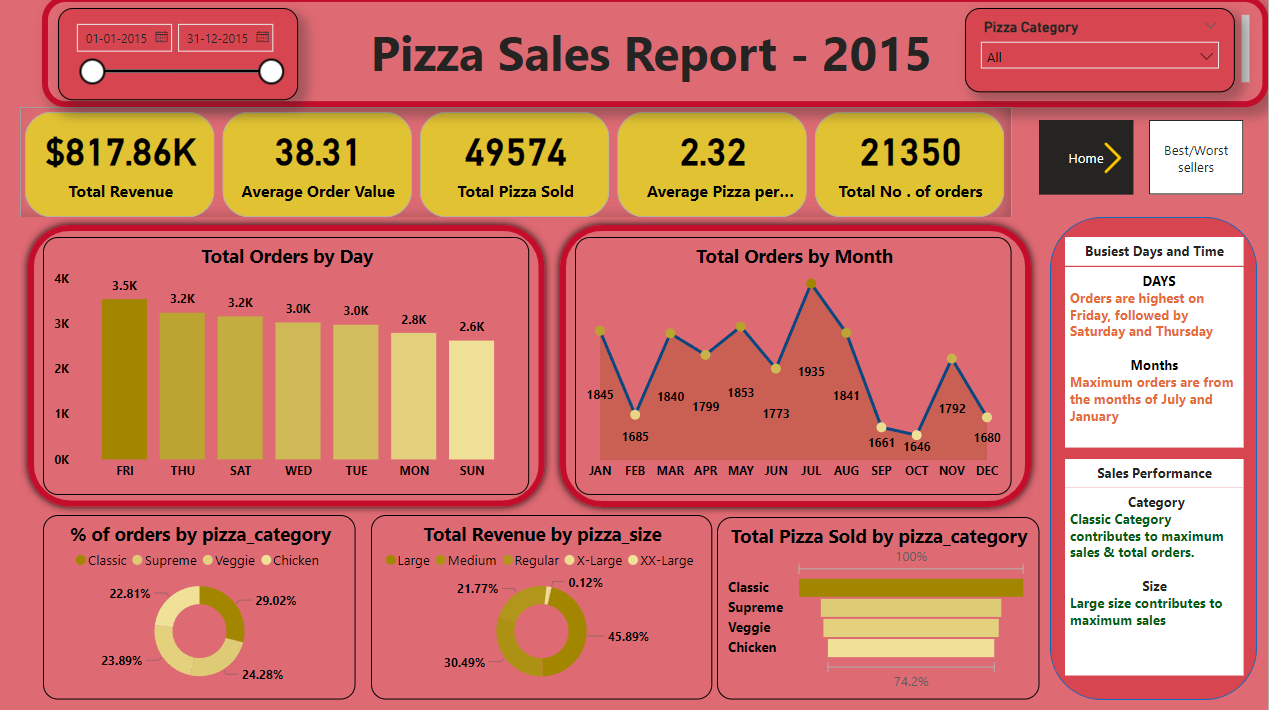

What the dashboard file says about the page in this screenshot:
{"tool":"powerbi","page":{"name":" Home","canvas":[1280,720],"ordinal":0},"visuals":[{"type":"shape","box":[1060.3,222.7,208.6,486.8],"z":0},{"type":"textbox","box":[1075.4,242.9,180.4,29.2],"z":0,"group":"g2"},{"type":"textbox","box":[1075.4,466.6,180.4,29.2],"z":0,"group":"g1"},{"type":"cardVisual","fields":{"Data":["Measures (2).Total Revenue","Measures (2).Average Order Value","Measures (2).Total Pizza Sold","Measures (2).Average Pizza per order","Measures (2).Total No . of orders"]},"box":[22.2,111.9,999.8,116.9],"z":1000},{"type":"textbox","box":[1075.7,273.1,180,181.8],"z":1000,"group":"g2"},{"type":"textbox","box":[1075.4,495.8,180.4,189.5],"z":1000,"group":"g1"},{"type":"textbox","box":[44.3,0,1235.7,111.9],"z":2000},{"type":"shape","box":[22.1,223,536.6,299.7],"z":3000},{"type":"columnChart","title":"Total Orders by Day","fields":{"Category":["pizza_sales.Order Day"],"Y":["Measures (2).Total No . of orders"]},"box":[45.3,242.8,490.2,260.2],"z":4000},{"type":"shape","box":[558.4,222.7,490.8,300.3],"z":5000},{"type":"stackedAreaChart","title":"Total Orders by Month","fields":{"Category":["pizza_sales.Month"],"Y":["Measures (2).Total No . of orders"]},"box":[581.5,242.9,440.4,260],"z":6000},{"type":"donutChart","title":"% of orders by pizza_category","fields":{"Category":["pizza_sales.pizza_category"],"Y":["Measures (2).Total No . of orders"]},"box":[45.4,523.1,315.5,186.5],"z":7000},{"type":"donutChart","fields":{"Category":["pizza_sales.pizza_size"],"Y":["Measures (2).Total Revenue"]},"box":[375.9,523.1,343.7,186.5],"z":8000},{"type":"funnel","fields":{"Category":["pizza_sales.pizza_category"],"Y":["Measures (2).Total Pizza Sold"]},"box":[724.7,525.1,324.5,184.4],"z":9000},{"type":"group","id":"g1","title":"Group 1","box":[1075.4,466.6,180.4,218.7],"z":10000},{"type":"group","id":"g2","title":"Group 2","box":[1075.4,242.9,180.4,211.7],"z":11000},{"type":"slicer","fields":{"Values":["pizza_sales.pizza_category"]},"box":[974.6,12.1,272.1,84.7],"z":12000},{"type":"slicer","fields":{"Values":["pizza_sales.order_date"]},"box":[60.5,12.1,241.9,92.7],"z":13000},{"type":"pageNavigator","box":[1049.2,125,95.7,75.6],"z":14000},{"type":"pageNavigator","box":[1160.1,125,95.7,75.6],"z":15000},{"type":"image","box":[1102.6,142.1,42.3,42.3],"z":16000}]}

Visuals, with their boxes in screenshot pixels (x1, y1, x2, y2), scaled from the page's 1280x720 canvas onto the 1269x710 screenshot:
shape: select_region(1051, 220, 1258, 700)
textbox: select_region(1066, 240, 1245, 268)
textbox: select_region(1066, 460, 1245, 489)
cardVisual - Measures (2).Total Revenue x Measures (2).Average Order Value: select_region(22, 110, 1013, 226)
textbox: select_region(1066, 269, 1245, 449)
textbox: select_region(1066, 489, 1245, 676)
textbox: select_region(44, 0, 1268, 110)
shape: select_region(22, 220, 554, 515)
"Total Orders by Day" columnChart: select_region(45, 239, 531, 496)
shape: select_region(554, 220, 1040, 516)
"Total Orders by Month" stackedAreaChart: select_region(577, 240, 1013, 496)
"% of orders by pizza_category" donutChart: select_region(45, 516, 358, 700)
donutChart - pizza_sales.pizza_size x Measures (2).Total Revenue: select_region(373, 516, 713, 700)
funnel - pizza_sales.pizza_category x Measures (2).Total Pizza Sold: select_region(718, 518, 1040, 700)
"Group 1" group: select_region(1066, 460, 1245, 676)
"Group 2" group: select_region(1066, 240, 1245, 448)
slicer - pizza_sales.pizza_category: select_region(966, 12, 1236, 95)
slicer - pizza_sales.order_date: select_region(60, 12, 300, 103)
pageNavigator: select_region(1040, 123, 1135, 198)
pageNavigator: select_region(1150, 123, 1245, 198)
image: select_region(1093, 140, 1135, 182)
